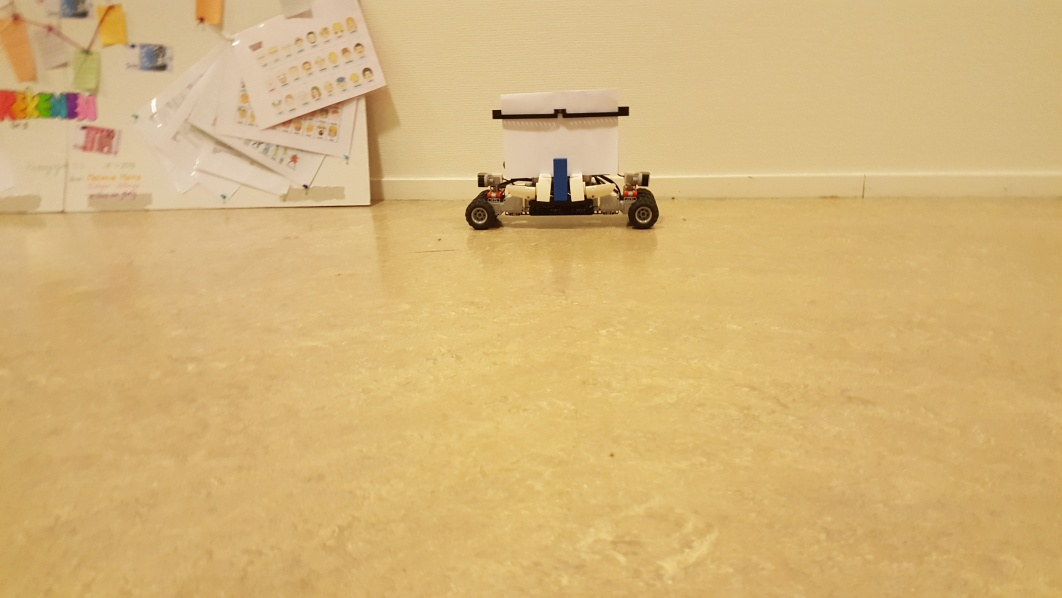beam: (548, 154, 570, 204)
